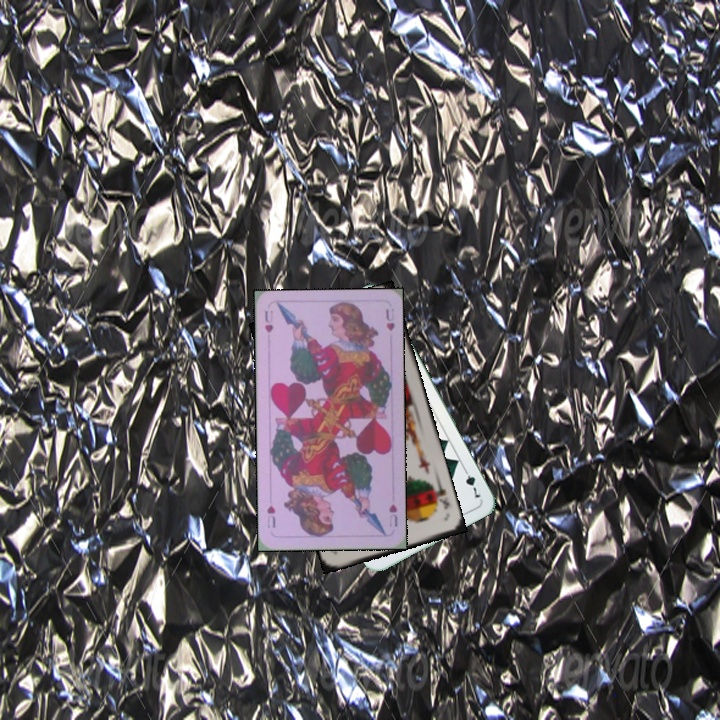G7: (459, 463, 484, 502)
HU: (260, 306, 276, 335), (385, 500, 400, 529)
SK: (428, 480, 452, 512)
